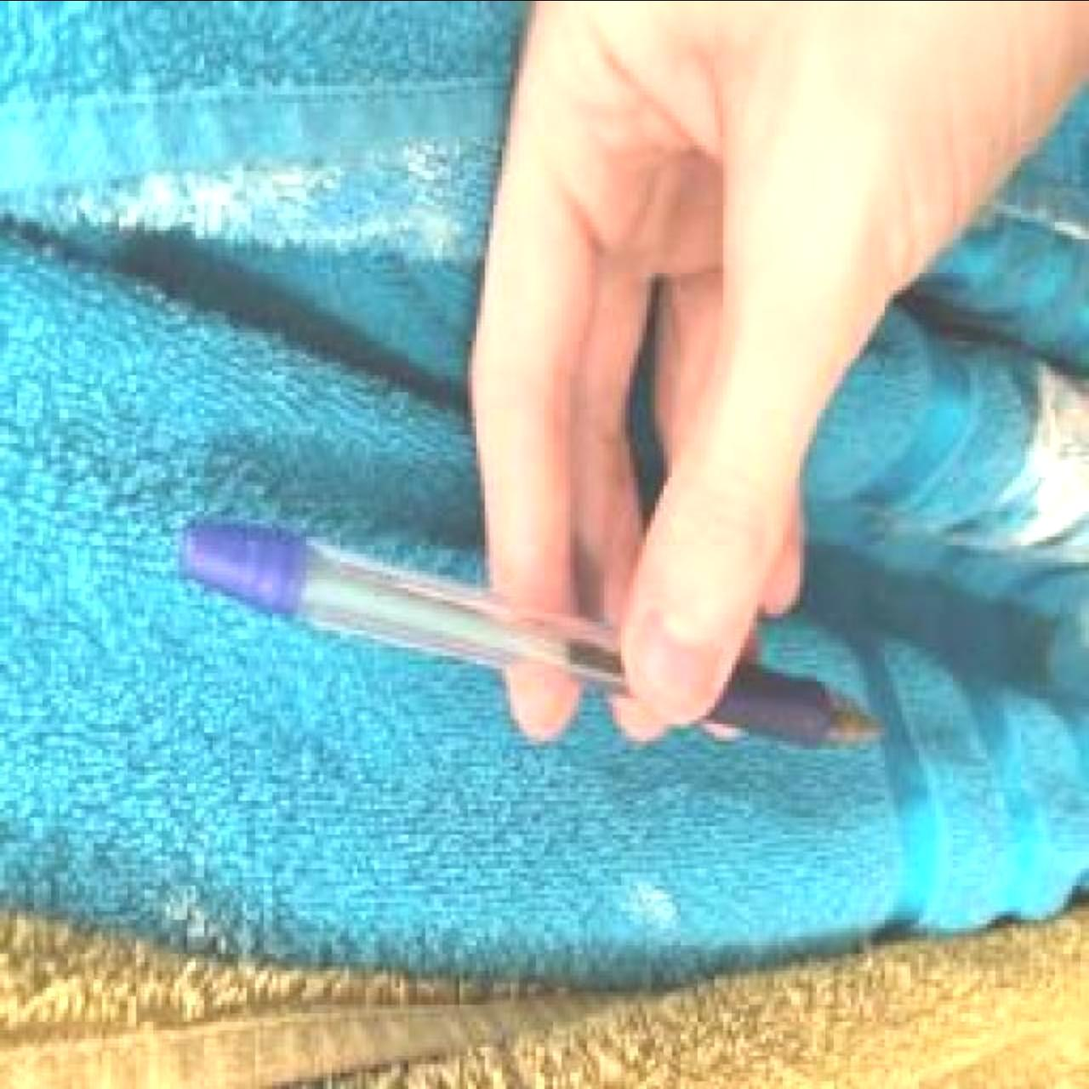pen: (170, 522, 885, 757)
